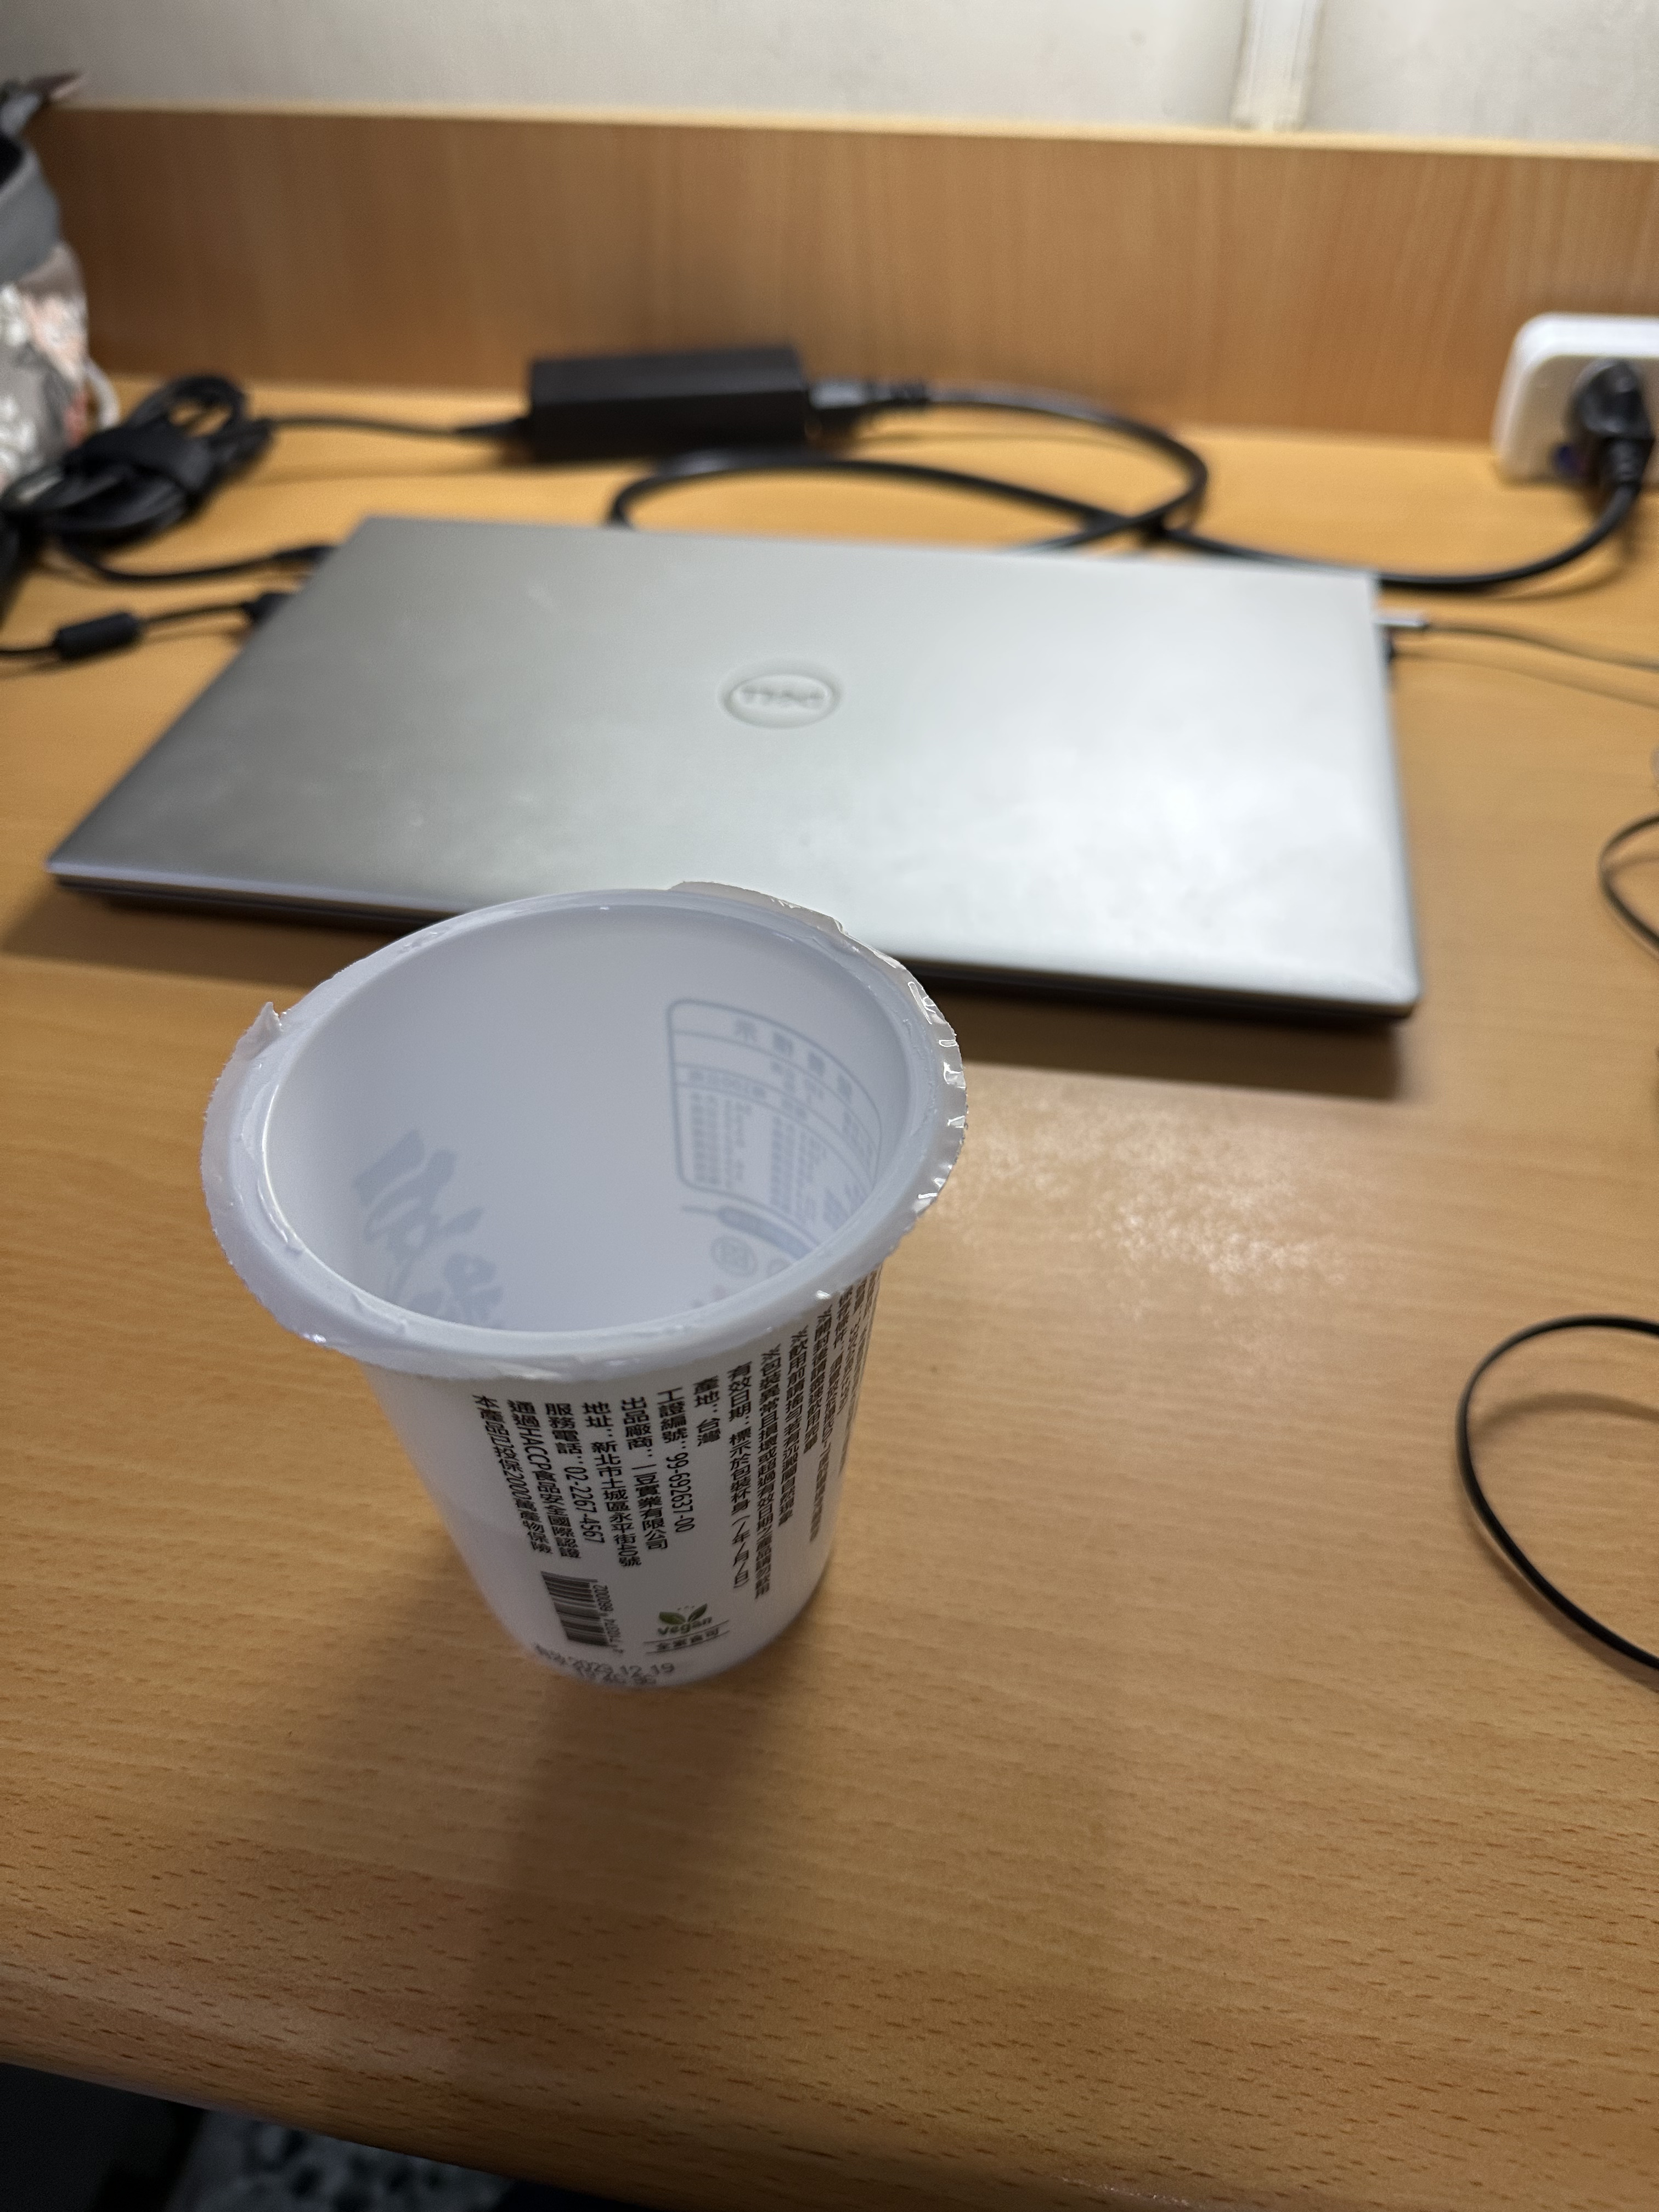cup: (199, 885, 974, 1683)
